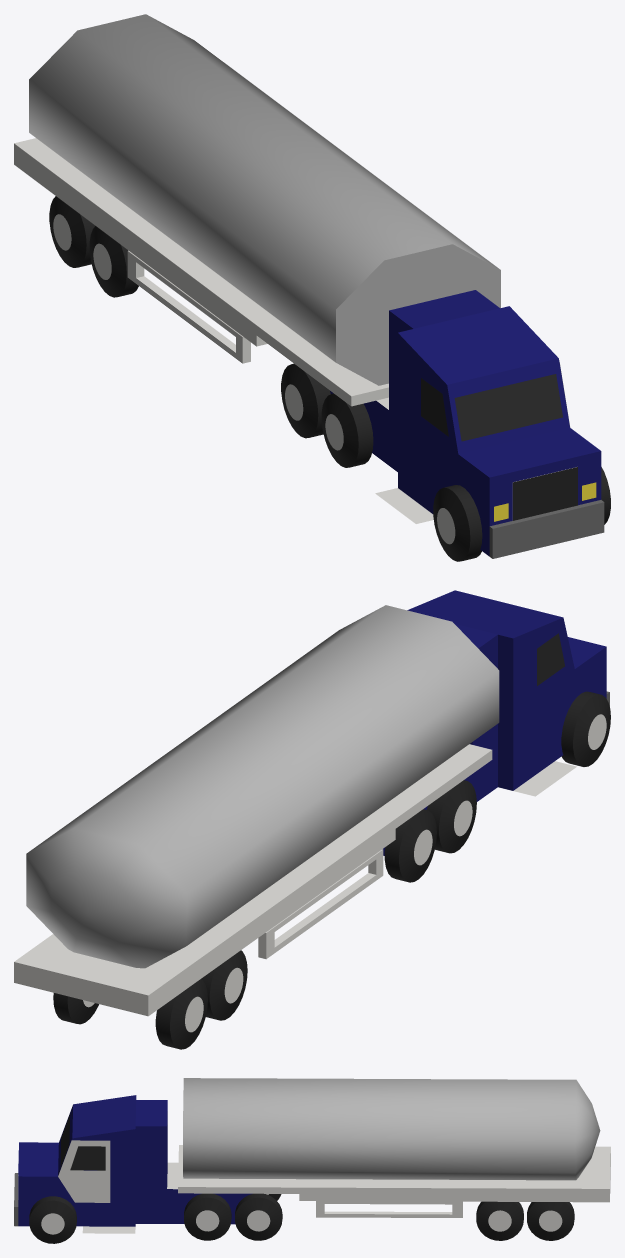
File: fuelTruck_secours.dae
3 renders of one model, top to bottom at view 1: azimuth 30°, elevation 25°; view 2: azimuth 150°, elevation 25°; view 3: azimuth 270°, elevation 25°, orthographic. The views are drawn at different scales.
Parts seen in each view (by area): view 1: Silo_001, Semi-truck-and-trailer_005, TireSemi_026, TireSemi_028, Group_001, TireSemi_024, TireSemi_025, TireSemi_029; view 2: Silo_001, Semi-truck-and-trailer_005, TireSemi_026, Group_001, TireSemi_024, TireSemi_025, TireSemi_028, TireSemi_029, TireSemi_023; view 3: Silo_001, Semi-truck-and-trailer_005, TireSemi_021, TireSemi_027, TireSemi_022, TireSemi_030, Group_001, TireSemi_023.
Part boxes in pixels (bbox=[...]): Silo_001: bbox=[29, 14, 500, 385]; Semi-truck-and-trailer_005: bbox=[14, 138, 604, 558]; TireSemi_026: bbox=[433, 485, 482, 561]; TireSemi_028: bbox=[321, 393, 373, 467]; Group_001: bbox=[127, 250, 250, 363]; TireSemi_024: bbox=[281, 363, 330, 438]; TireSemi_025: bbox=[49, 196, 95, 267]; TireSemi_029: bbox=[89, 226, 138, 297]; Silo_001: bbox=[26, 605, 499, 968]; Semi-truck-and-trailer_005: bbox=[14, 590, 609, 1016]; TireSemi_026: bbox=[561, 691, 610, 766]; Group_001: bbox=[258, 849, 383, 959]; TireSemi_024: bbox=[384, 809, 436, 882]; TireSemi_025: bbox=[155, 979, 207, 1049]; TireSemi_028: bbox=[427, 780, 476, 853]; TireSemi_029: bbox=[201, 950, 247, 1020]; TireSemi_023: bbox=[53, 993, 98, 1024]; Silo_001: bbox=[183, 1078, 600, 1180]; Semi-truck-and-trailer_005: bbox=[14, 1095, 610, 1233]; TireSemi_021: bbox=[29, 1196, 76, 1243]; TireSemi_027: bbox=[184, 1193, 231, 1240]; TireSemi_022: bbox=[235, 1193, 282, 1240]; TireSemi_030: bbox=[476, 1201, 523, 1240]; Group_001: bbox=[316, 1201, 462, 1217]; TireSemi_023: bbox=[527, 1202, 574, 1240].
Size of the model in its own units: 3.55 by 4.26 by 17.21.
